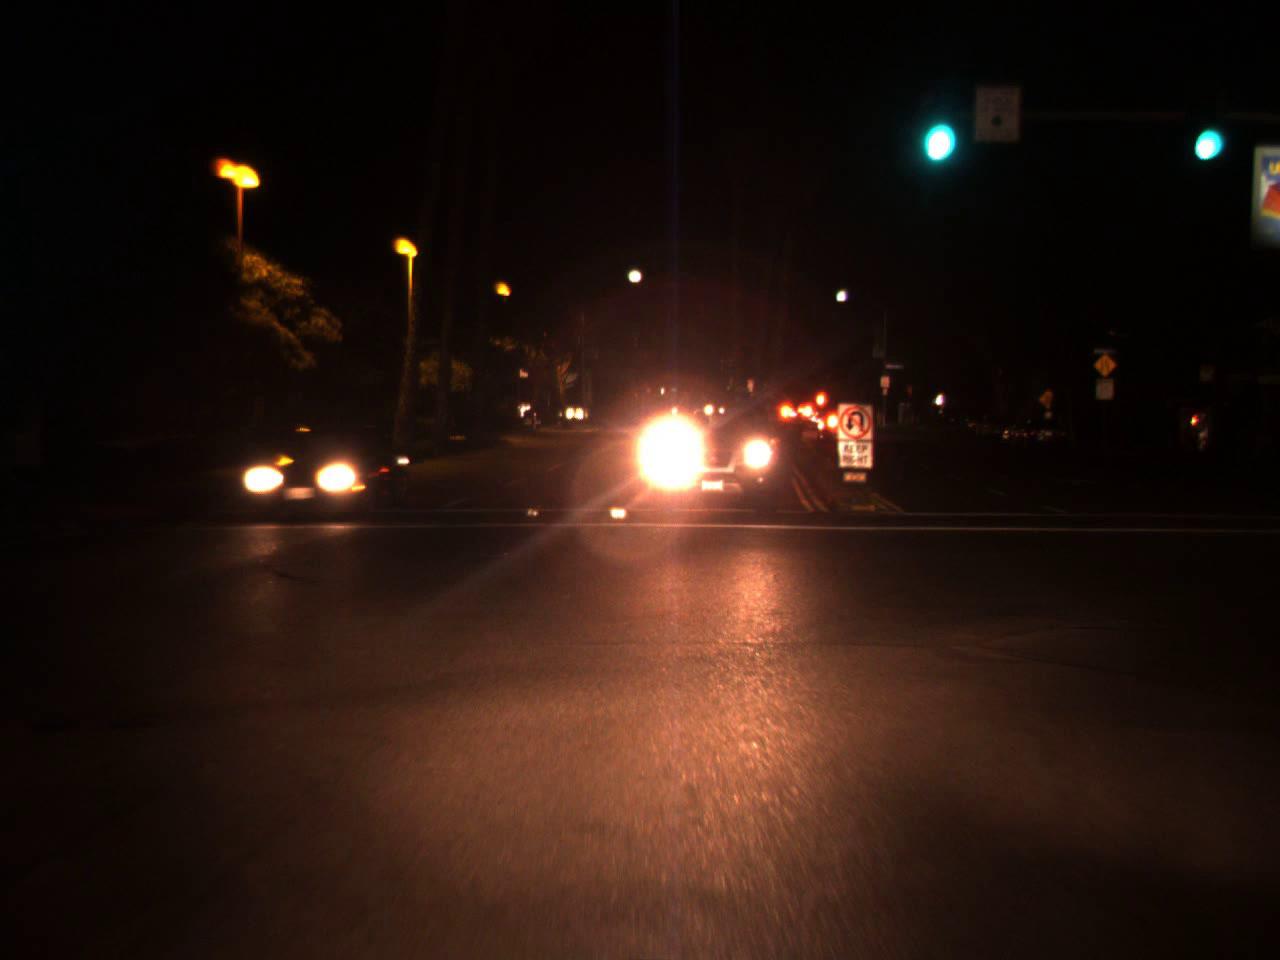go: (1183, 91, 1228, 172), (915, 86, 956, 173)
